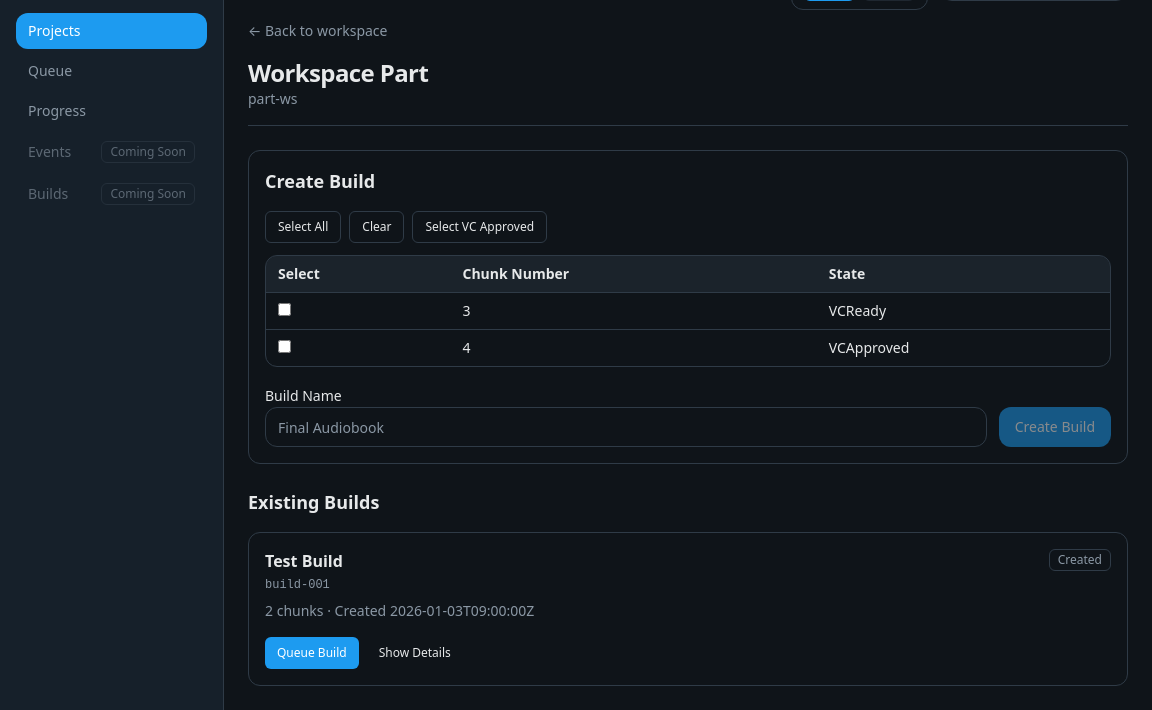
Test: E8.1-E Build Manager › 14. build details expand
The width and height of the screenshot is (1152, 710).
(page scrolled)
What coordinates should you click on to do the following:
click the button with test id "expand-build-build-001"
I would click on:
 (415, 653)
Its box is top-left (367, 637), bottom-right (463, 669).
(page scrolled)
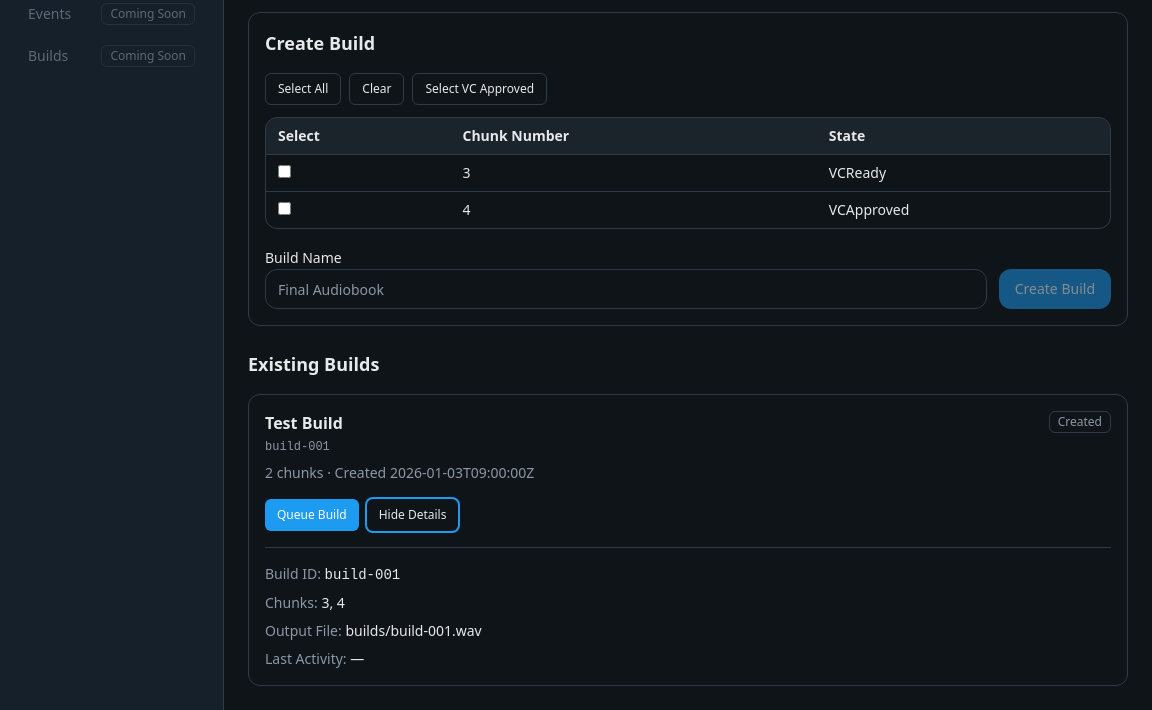
Result: the element with test id "build-details" is shown at top-left (265, 547), bottom-right (1111, 669)
Result: the element with test id "build-last-activity" is shown at top-left (265, 649), bottom-right (364, 668)
